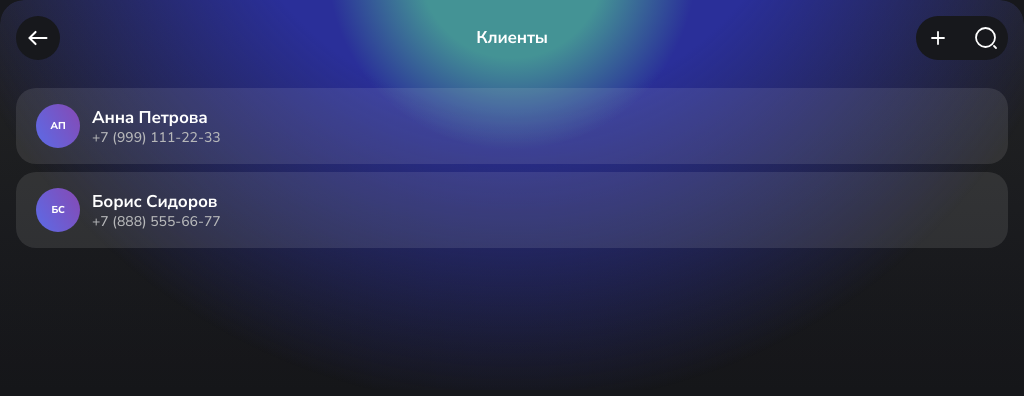
Test: ClientsPage › ищет отдельно по имени и цифрам телефона
This screenshot has width=1024, height=396.
Click the button named "Поиск" at (986,38), box [968, 20, 1004, 56]
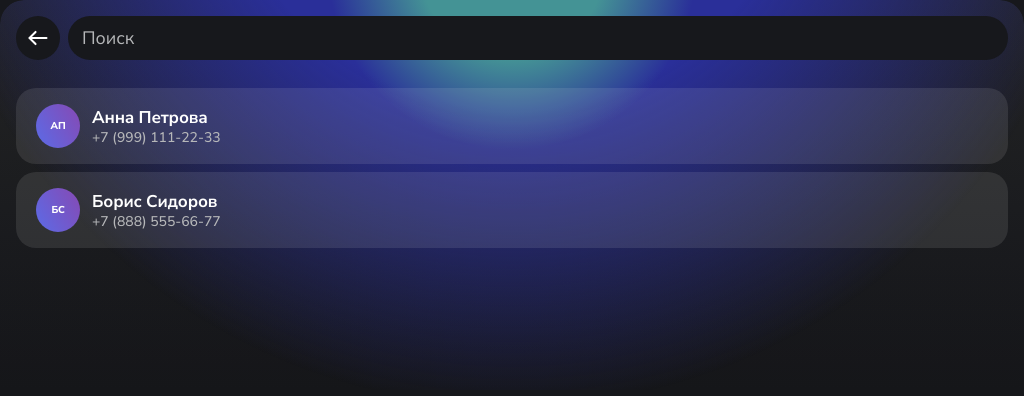
Type "анна" into the field with placeholder "Поиск" at (538,38), box [82, 26, 994, 50]
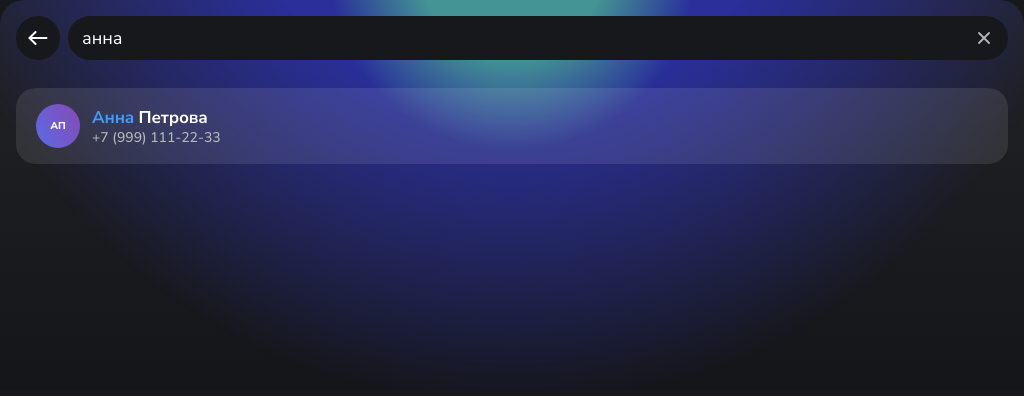
Check: the button "АП Анна Петрова +7 (999) 111-22-33" is shown, box [16, 88, 1008, 164]
Check: the button "Борис Сидоров" is gone
Clear the field with placeholder "Поиск" at (524,38), box [82, 26, 966, 50]
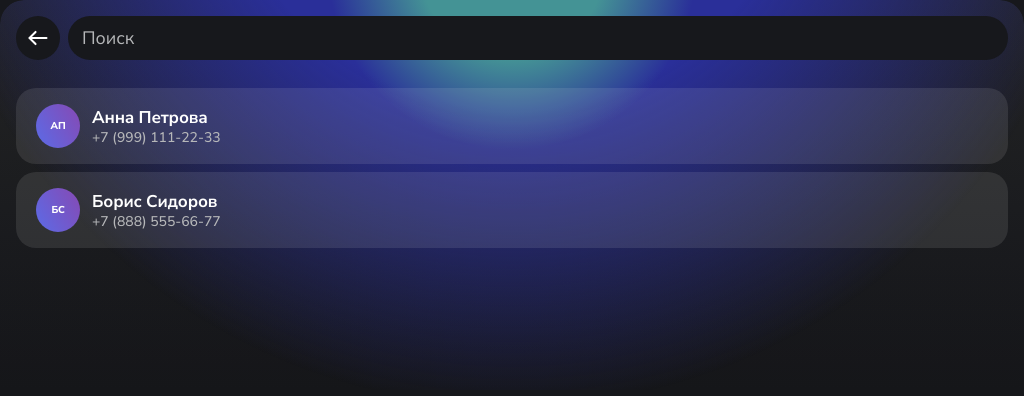
Type "5556677" into the field with placeholder "Поиск" at (538,38), box [82, 26, 994, 50]
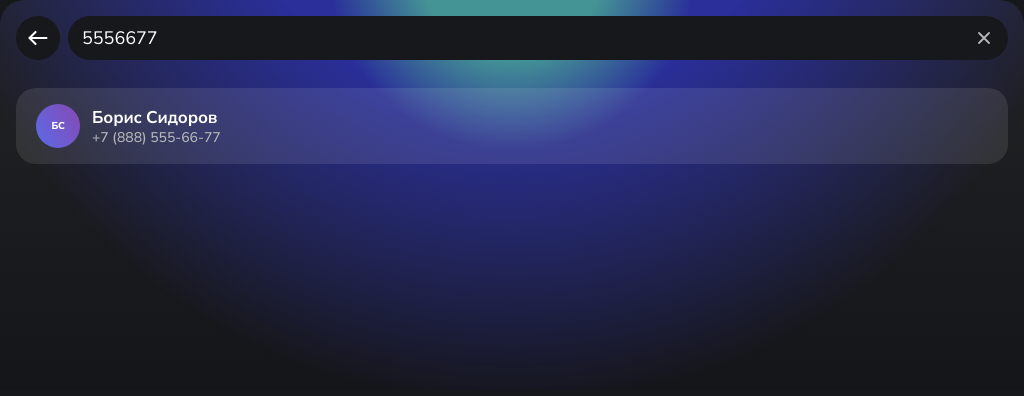
Check: the button "БС Борис Сидоров +7 (888) 555-66-77" is shown, box [16, 88, 1008, 164]
Check: the button "Анна Петрова" is gone
Click the button named "Очистить" at (984,38), box [974, 28, 994, 48]
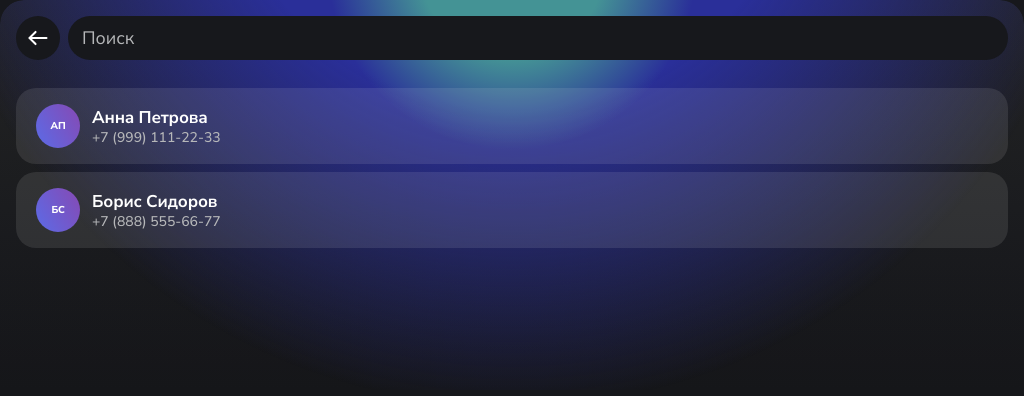
Check: the button "БС Борис Сидоров +7 (888) 555-66-77" is shown, box [16, 172, 1008, 248]
Check: the button "АП Анна Петрова +7 (999) 111-22-33" is shown, box [16, 88, 1008, 164]
